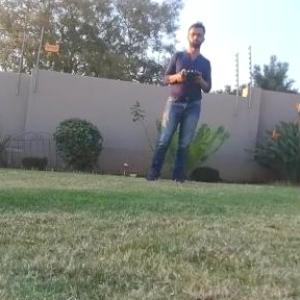follow: (140, 13, 214, 186)
